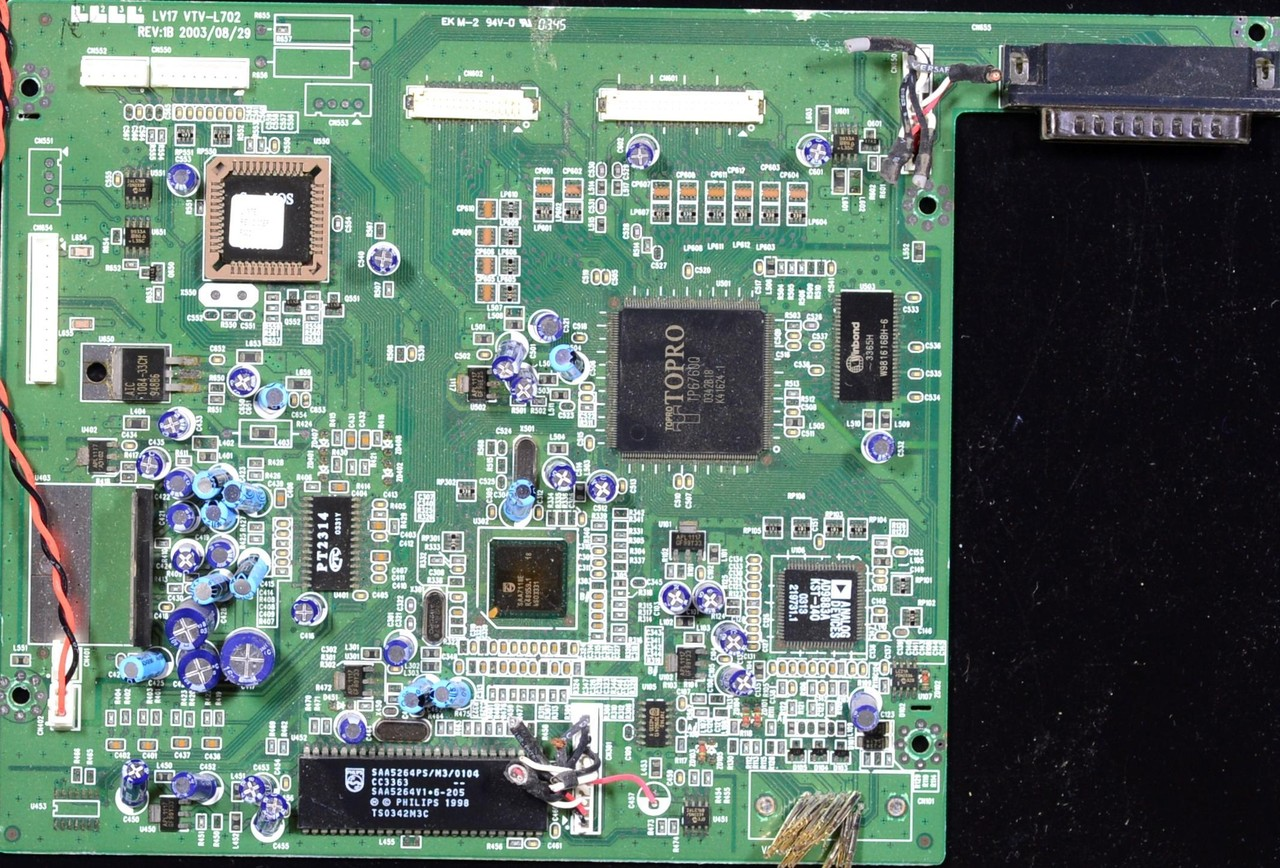Capacitor: (591, 84, 772, 126), (221, 624, 278, 690), (170, 652, 232, 697), (110, 755, 152, 820), (189, 462, 252, 501), (157, 609, 220, 646), (109, 650, 172, 686), (231, 555, 277, 602), (252, 795, 297, 842), (192, 571, 239, 610), (794, 131, 835, 174), (336, 709, 375, 753), (360, 243, 413, 275), (221, 364, 264, 403), (856, 433, 906, 465), (583, 465, 623, 505), (620, 136, 667, 170), (501, 481, 544, 518), (376, 634, 420, 670), (286, 592, 326, 631), (222, 477, 263, 515), (540, 459, 582, 496), (253, 376, 291, 416), (156, 410, 203, 442), (133, 451, 177, 485), (198, 498, 238, 531), (204, 538, 244, 568), (241, 770, 277, 803), (168, 540, 204, 573), (164, 464, 198, 497), (169, 546, 204, 578), (165, 506, 200, 535), (199, 734, 229, 755), (205, 347, 231, 369), (169, 734, 197, 754), (366, 549, 401, 565), (135, 733, 161, 754), (678, 263, 701, 284), (105, 736, 133, 753), (901, 289, 924, 309), (905, 340, 932, 357), (272, 483, 289, 509), (802, 314, 825, 333), (550, 818, 566, 843), (198, 309, 223, 325), (671, 767, 688, 790), (524, 833, 544, 852), (120, 434, 141, 452), (350, 585, 371, 603), (333, 214, 350, 236), (358, 427, 372, 453), (857, 661, 876, 680), (236, 308, 256, 326), (908, 365, 931, 380), (121, 104, 138, 124), (580, 433, 597, 453), (109, 171, 125, 192), (343, 429, 357, 453), (595, 158, 609, 181), (652, 241, 666, 264), (172, 103, 187, 124), (891, 544, 912, 559), (273, 25, 297, 38), (272, 517, 296, 530), (593, 197, 611, 214), (750, 260, 767, 278), (587, 267, 603, 286), (907, 390, 927, 405), (403, 615, 420, 632), (587, 619, 609, 632), (807, 339, 829, 352), (557, 401, 576, 416), (892, 627, 915, 639), (371, 497, 392, 510), (869, 574, 890, 587), (675, 695, 691, 712), (695, 563, 710, 581), (630, 221, 644, 240), (367, 520, 389, 532), (371, 573, 393, 585), (715, 651, 735, 664), (806, 658, 819, 678), (623, 721, 636, 741), (484, 504, 500, 520), (676, 716, 691, 733), (807, 362, 824, 377), (288, 392, 303, 409), (271, 556, 294, 567), (611, 161, 625, 179), (784, 407, 805, 419), (449, 606, 468, 619), (280, 773, 293, 792), (588, 589, 607, 602), (587, 559, 609, 570), (403, 597, 418, 613), (848, 661, 862, 678), (195, 104, 209, 121), (671, 473, 685, 490), (478, 658, 491, 676), (599, 269, 612, 287), (784, 343, 805, 354), (783, 428, 804, 439), (569, 334, 592, 344), (408, 344, 420, 363), (474, 347, 493, 359), (449, 591, 468, 603), (871, 603, 888, 616), (530, 640, 543, 657), (799, 659, 812, 676), (300, 391, 313, 408), (618, 479, 631, 496), (533, 503, 546, 520), (826, 259, 837, 279), (785, 331, 805, 342), (578, 380, 598, 391), (744, 552, 764, 563), (509, 660, 523, 675), (517, 660, 530, 676), (452, 661, 465, 677), (550, 661, 563, 677), (185, 106, 198, 122), (271, 137, 284, 153), (158, 601, 175, 613), (510, 639, 522, 656), (488, 640, 500, 657), (497, 440, 509, 457), (372, 531, 389, 543), (871, 565, 889, 576), (518, 641, 531, 656), (205, 107, 218, 122), (685, 474, 698, 489), (539, 640, 551, 656), (778, 660, 790, 676), (879, 660, 891, 676), (589, 600, 608, 610), (577, 509, 587, 528), (134, 102, 143, 123), (576, 392, 597, 401), (273, 548, 294, 557), (788, 660, 799, 677), (216, 105, 227, 122), (589, 569, 606, 580), (766, 660, 778, 675), (235, 106, 247, 121), (369, 564, 389, 573), (500, 640, 511, 656), (529, 660, 540, 676), (225, 104, 234, 123), (145, 104, 155, 121), (155, 104, 165, 121), (745, 571, 762, 581), (746, 581, 763, 591), (498, 661, 511, 674), (570, 640, 581, 655), (828, 661, 839, 676), (591, 546, 606, 557), (744, 624, 762, 633), (826, 721, 836, 737), (744, 563, 764, 571), (562, 661, 573, 675), (591, 612, 608, 621), (747, 589, 764, 598), (819, 661, 829, 676), (817, 681, 827, 696), (273, 530, 294, 537), (745, 606, 761, 615), (876, 631, 890, 641), (798, 721, 808, 735), (746, 616, 763, 624), (450, 565, 467, 573), (746, 632, 761, 641), (746, 642, 761, 651), (551, 642, 561, 655), (807, 721, 816, 735), (789, 681, 797, 696)
Connector: (399, 76, 548, 132), (19, 231, 66, 390), (152, 53, 264, 94), (300, 78, 386, 125), (19, 148, 74, 221), (76, 55, 150, 91)
IC: (605, 298, 779, 468), (200, 153, 332, 282), (479, 528, 571, 626), (831, 289, 903, 408), (80, 341, 175, 406), (301, 494, 361, 592), (152, 784, 193, 836), (457, 365, 503, 410), (77, 438, 124, 480), (47, 797, 105, 827), (640, 698, 670, 747), (830, 123, 864, 165), (335, 662, 374, 697), (672, 645, 708, 681), (123, 225, 156, 257), (122, 173, 153, 206), (889, 664, 918, 695)
Resistor: (188, 197, 211, 220), (381, 279, 403, 300), (500, 836, 527, 853), (862, 153, 880, 177), (146, 285, 165, 306), (372, 425, 388, 449), (152, 534, 174, 551), (116, 258, 142, 272), (653, 816, 670, 837), (103, 707, 120, 727), (182, 708, 199, 728), (206, 381, 232, 394), (264, 735, 280, 756), (69, 766, 85, 787), (667, 818, 683, 839), (212, 707, 227, 729), (306, 713, 321, 735), (445, 622, 468, 636), (331, 429, 347, 449), (346, 458, 362, 478), (210, 811, 225, 832), (118, 706, 131, 730), (204, 395, 228, 408), (750, 737, 764, 759), (686, 768, 702, 787), (529, 394, 548, 410), (355, 700, 380, 712), (136, 707, 151, 727), (374, 219, 389, 239), (482, 437, 497, 457), (611, 506, 634, 519), (675, 735, 689, 756), (802, 701, 819, 718), (168, 709, 184, 727), (221, 307, 237, 325), (871, 536, 893, 549), (449, 552, 471, 565), (330, 455, 345, 474), (701, 768, 715, 788), (305, 479, 325, 493), (273, 565, 293, 579), (425, 552, 448, 564), (663, 561, 678, 579), (201, 709, 215, 728), (766, 719, 780, 738), (196, 814, 210, 833), (278, 736, 290, 758), (777, 737, 789, 759), (303, 289, 325, 301), (371, 509, 395, 520), (165, 582, 187, 594), (446, 573, 466, 586), (448, 616, 469, 628), (727, 739, 741, 757), (84, 767, 98, 785), (262, 291, 283, 303), (393, 344, 405, 365), (247, 456, 268, 468), (589, 517, 610, 529), (836, 658, 849, 677), (321, 716, 334, 735), (795, 259, 808, 278), (304, 310, 323, 323), (110, 225, 121, 247), (360, 456, 371, 478), (611, 609, 631, 621), (690, 692, 710, 704), (739, 737, 751, 757), (816, 258, 828, 278), (263, 301, 283, 313), (247, 470, 267, 482), (496, 456, 510, 473), (872, 751, 885, 769), (120, 471, 138, 484), (156, 127, 167, 148), (173, 456, 196, 466), (548, 687, 560, 706), (457, 639, 472, 654), (879, 677, 892, 694), (151, 709, 164, 726), (249, 533, 266, 546), (611, 598, 631, 609), (263, 312, 283, 323), (118, 461, 138, 472), (273, 538, 293, 549), (611, 540, 631, 551), (611, 561, 631, 572), (776, 679, 788, 697), (389, 518, 401, 536), (786, 700, 800, 715), (825, 700, 838, 716), (612, 521, 632, 531), (146, 127, 157, 145), (592, 533, 610, 544), (528, 687, 541, 702), (861, 753, 874, 768), (559, 640, 571, 656), (611, 624, 630, 634), (693, 710, 712, 720), (611, 551, 630, 561), (611, 530, 632, 539), (726, 597, 743, 608), (805, 260, 816, 277), (776, 260, 787, 277), (566, 509, 577, 526), (556, 509, 567, 526), (724, 607, 742, 617), (479, 641, 491, 656), (559, 688, 571, 703), (463, 721, 475, 736), (446, 719, 455, 739), (765, 737, 775, 755), (886, 749, 895, 769), (247, 522, 267, 531), (539, 661, 550, 677), (677, 565, 688, 581), (784, 386, 803, 395), (806, 680, 816, 697), (783, 397, 804, 405), (520, 686, 531, 701), (494, 721, 505, 736), (611, 633, 627, 643), (539, 686, 549, 702), (258, 136, 268, 152), (577, 403, 597, 411), (545, 510, 555, 526), (488, 686, 500, 699), (510, 686, 519, 703), (786, 258, 795, 275), (613, 589, 630, 598), (871, 547, 890, 555), (499, 686, 509, 701), (483, 721, 493, 736), (473, 722, 483, 737), (304, 303, 322, 311), (244, 138, 254, 152), (839, 682, 849, 695), (590, 632, 606, 640), (829, 681, 837, 696), (437, 721, 445, 736), (745, 598, 763, 604)
Transistor/Diode: (321, 289, 349, 327), (134, 262, 167, 286), (861, 126, 884, 154), (283, 287, 301, 319)
